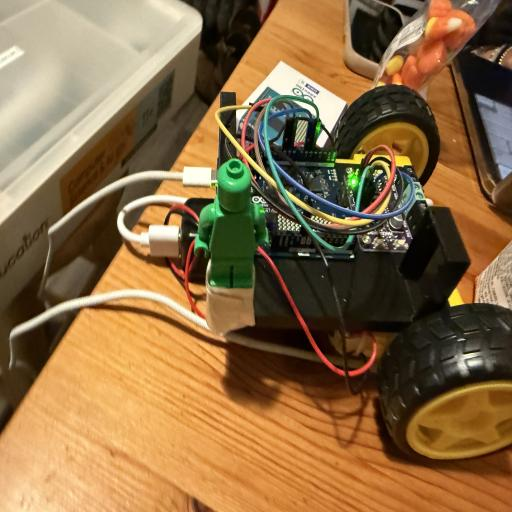Minifig: (194, 159, 267, 288)
